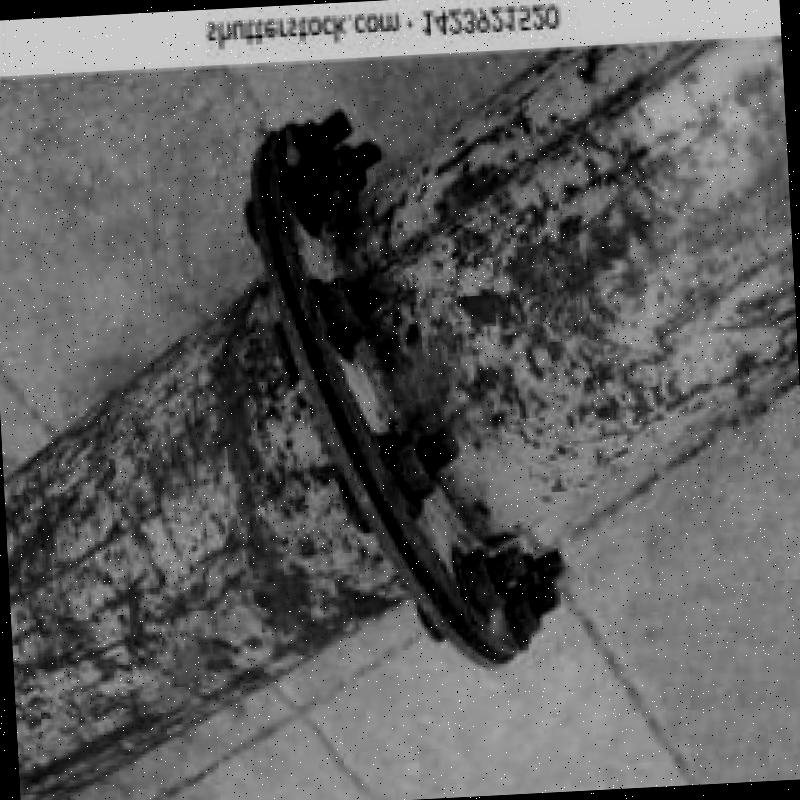corrosion: (177, 75, 598, 687)
